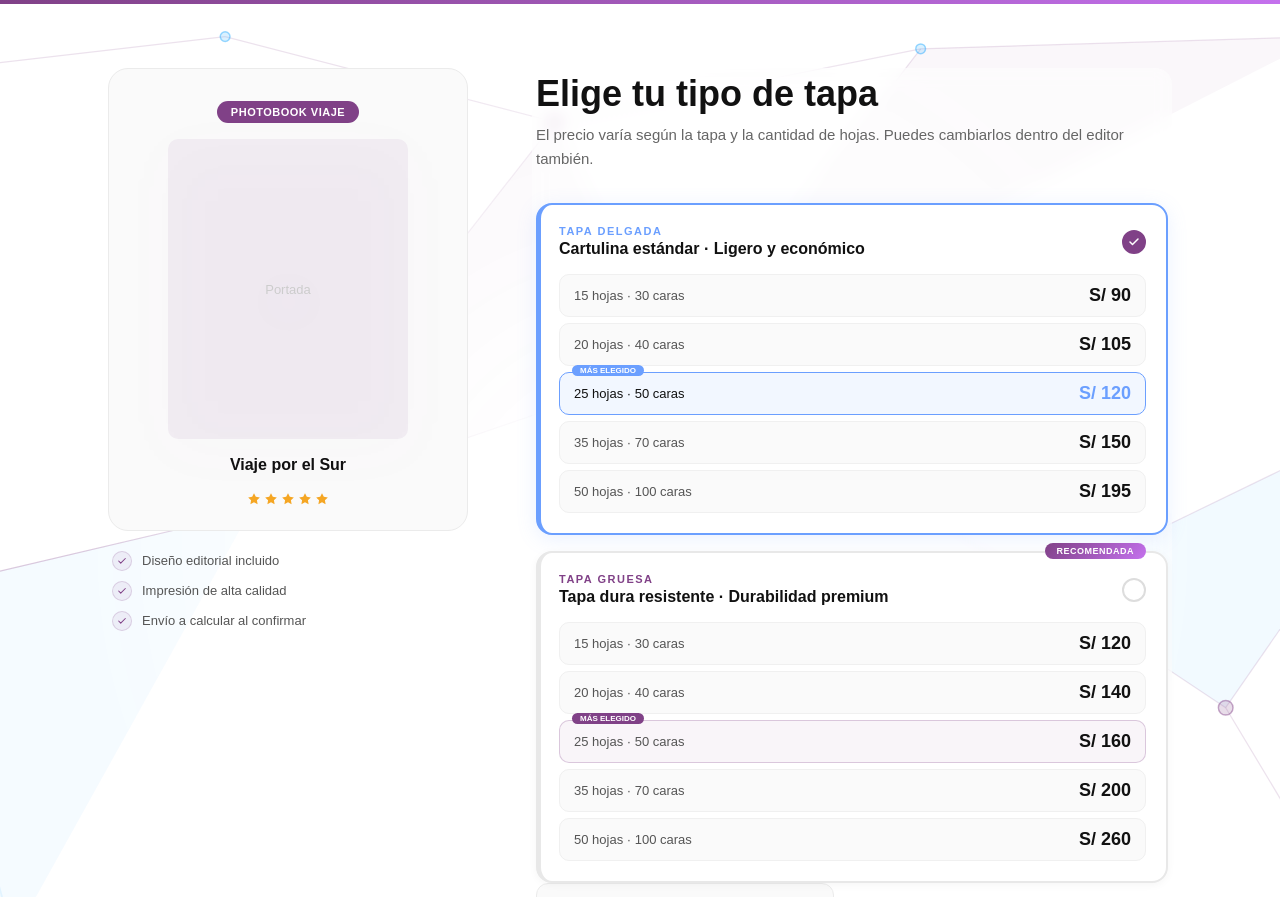
Test: PhotobookConfigurarClient (calcPrice via rendered summary) › switching to Tapa Gruesa reprices 25 hojas at S/ 160
Click the text "TAPA GRUESA" at (606, 579), box 559,573 -> 654,585
(page scrolled)
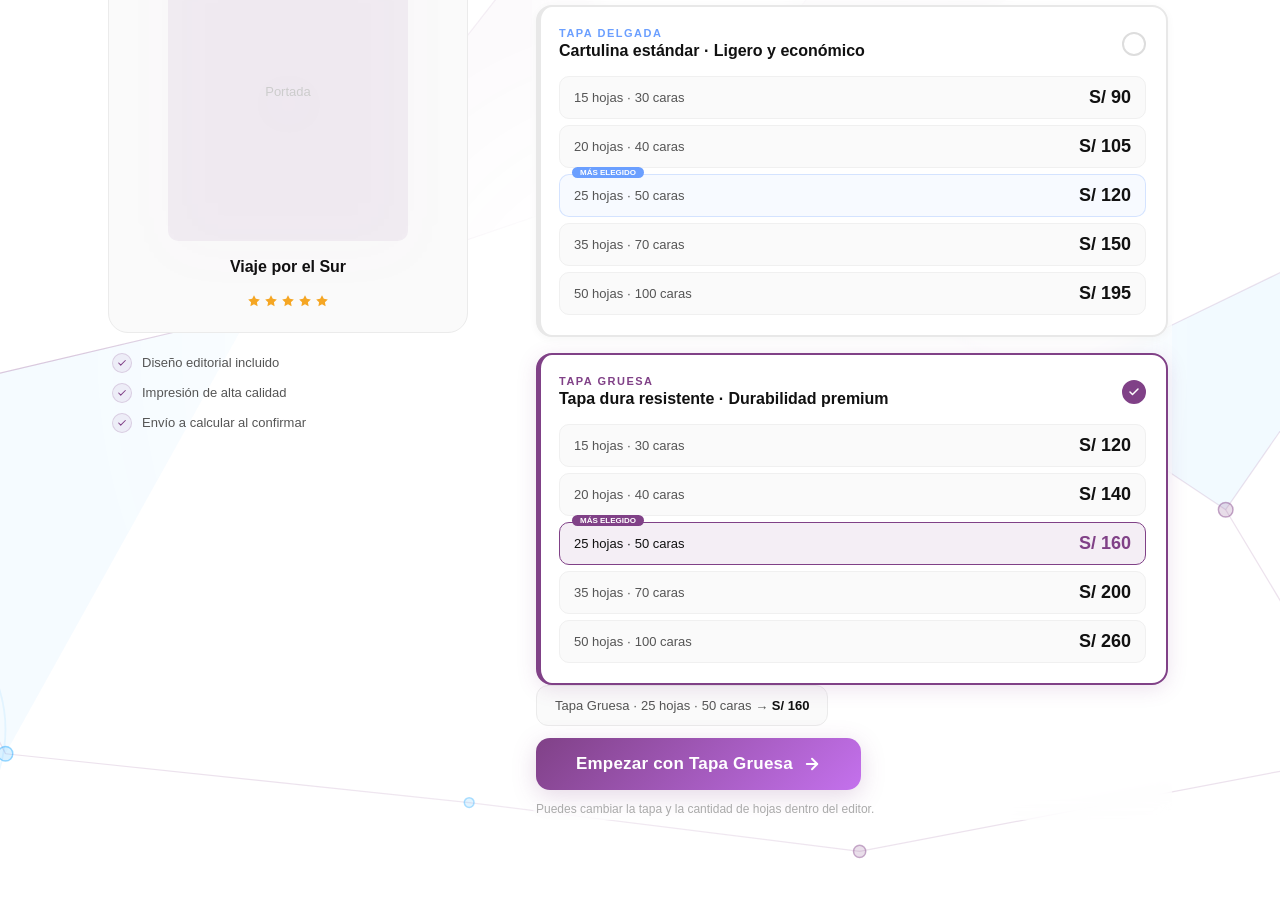
Expected: the text "S/ 160" next to "caras →" is shown, 772,698 -> 809,713
Expected: the button "Empezar con Tapa Gruesa" is shown, 536,738 -> 861,790
